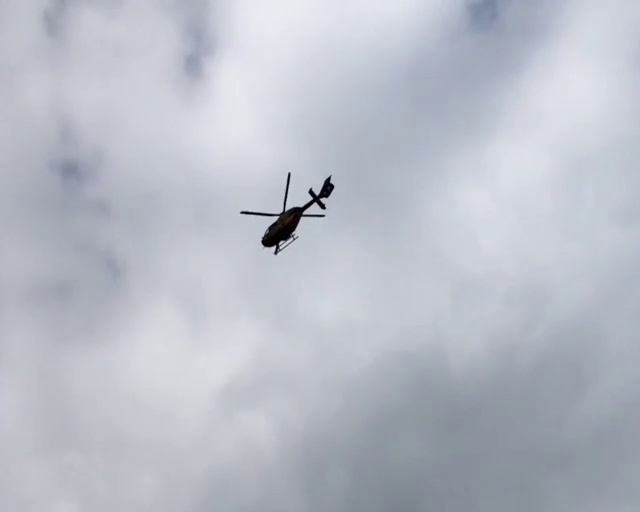HELICOPTER: (239, 171, 335, 256)
